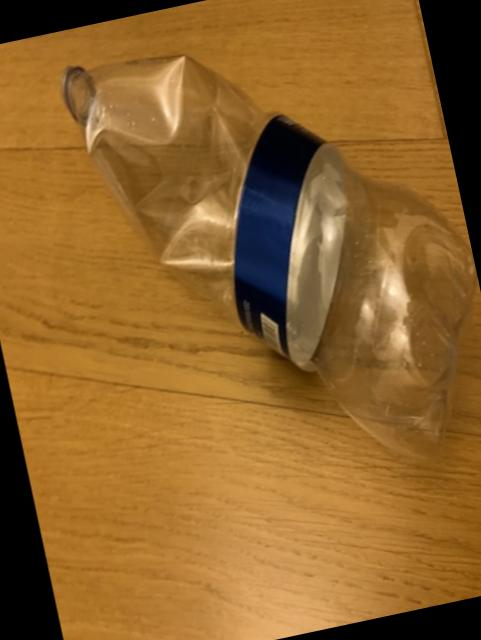plastic: (65, 59, 476, 458)
